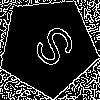S: (23, 21, 79, 78)
